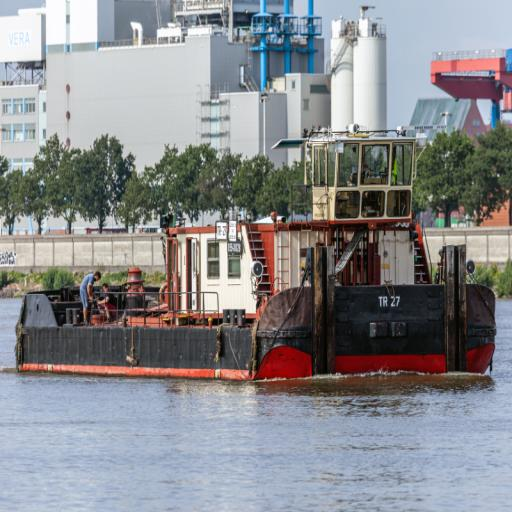tugboat: (11, 121, 500, 398)
